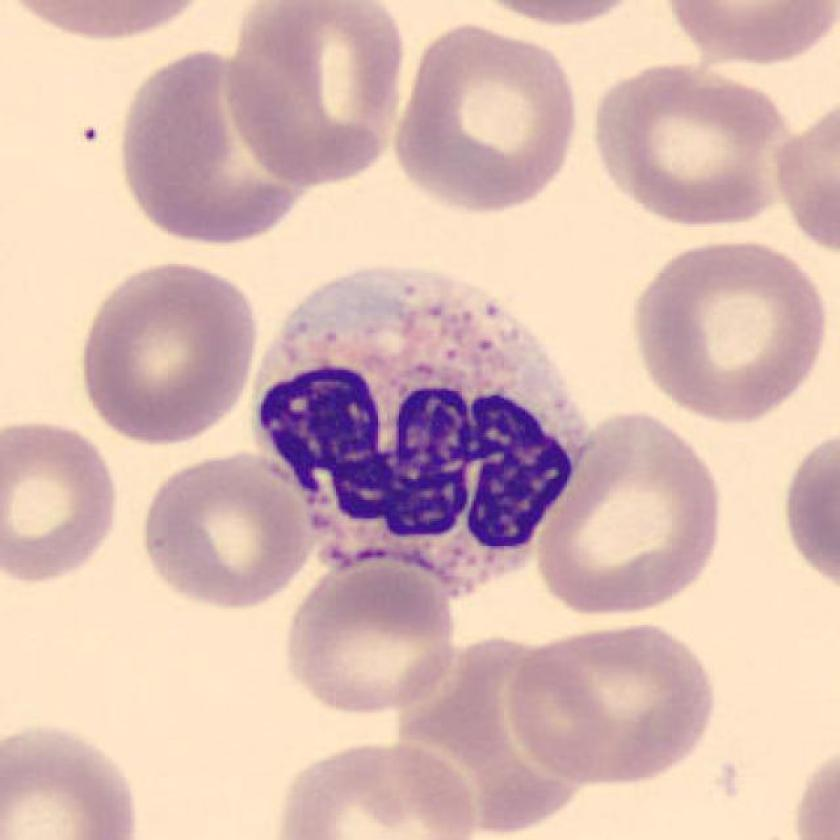neutrophil: (252, 270, 593, 604)
